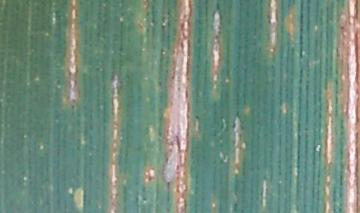tarspot: (157, 80, 164, 87), (195, 115, 201, 122), (70, 104, 75, 108)
